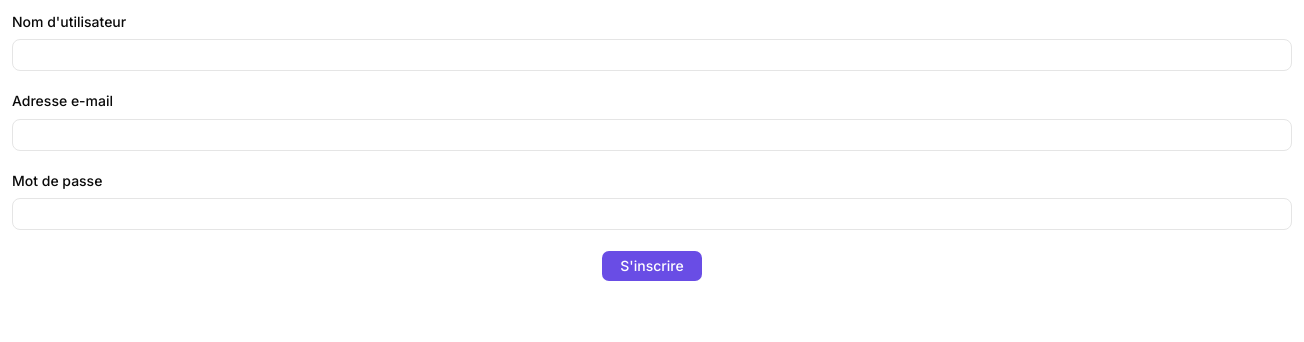
Test: RegisterForm › shows the error returned by the action
The width and height of the screenshot is (1304, 342).
Type "alice" into the field labelled "Nom d'utilisateur".
click(652, 55); type("alice")  # box [12,39,1292,71]
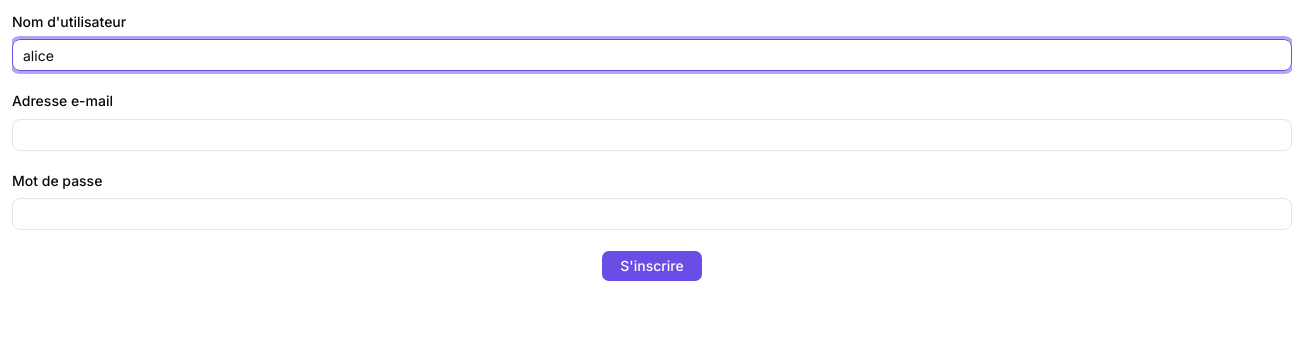
Type "alice@mdd.dev" into the field labelled "Adresse e-mail".
click(652, 134); type("alice@mdd.dev")  # box [12,118,1292,150]
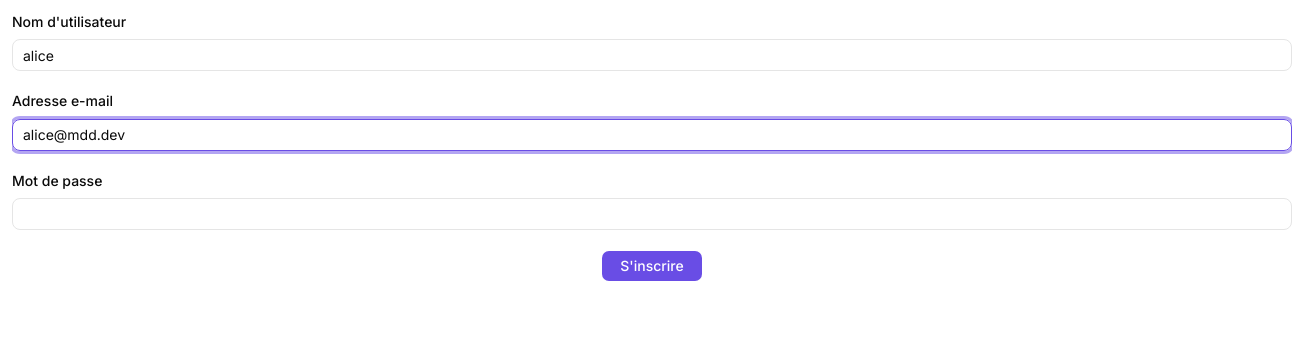
Type "Password123!" into the password field labelled "Mot de passe".
click(652, 214); type("Password123!")  # box [12,198,1292,230]
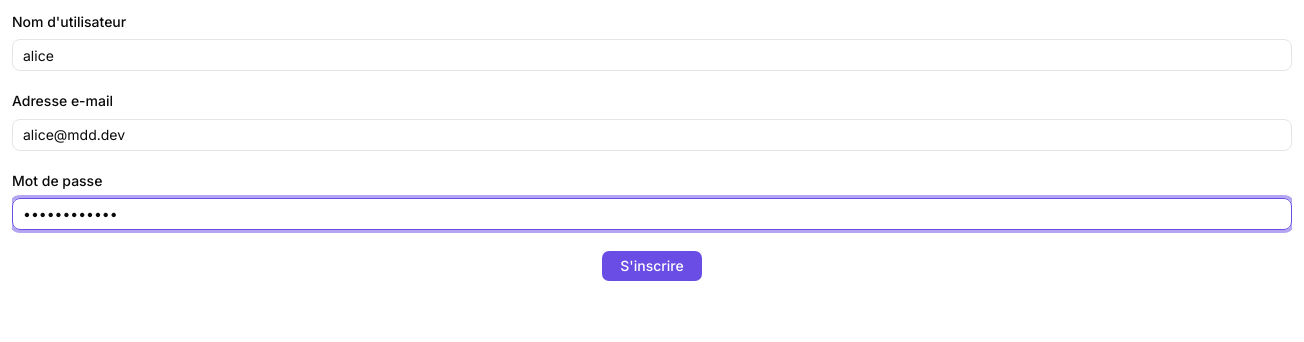
Click the button "S'inscrire".
click(652, 266)  # box [601,250,703,282]
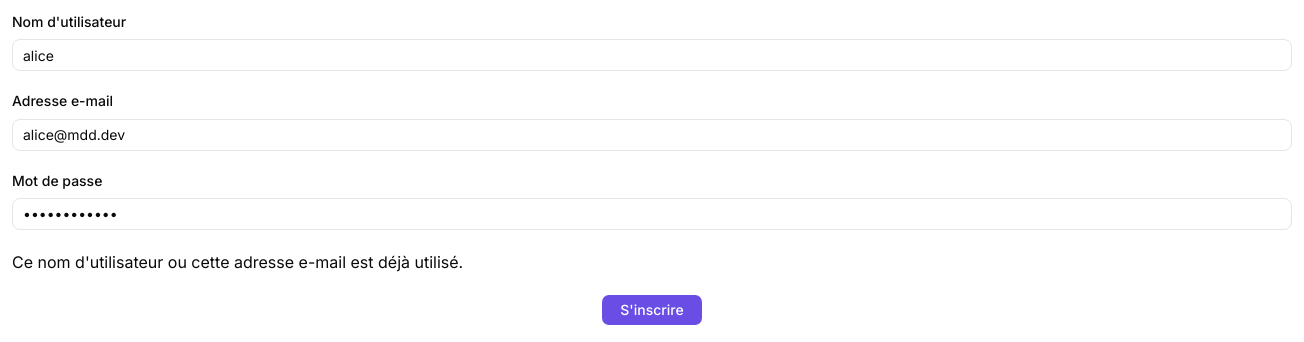
Now the message reads "Ce nom d'utilisateur ou cette adresse e-mail est déjà utilisé.", box [12,252,463,272]
